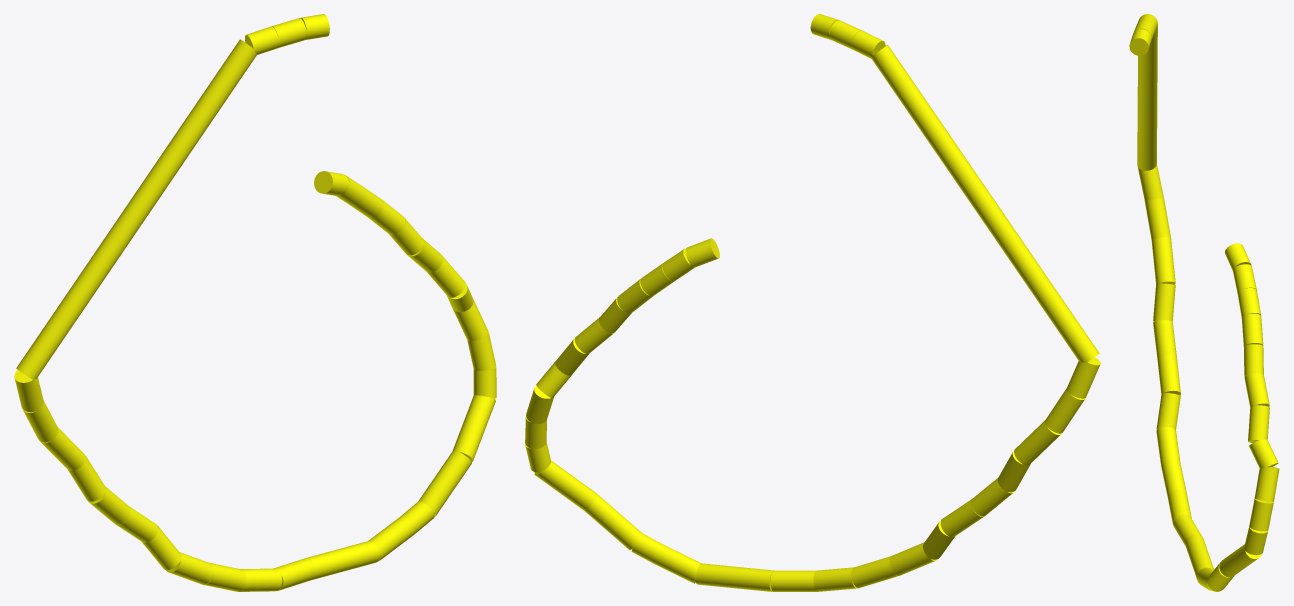
The picture shows the model from 3 angles, left to right: view 1: azimuth 30°, elevation 25°; view 2: azimuth 150°, elevation 25°; view 3: azimuth 270°, elevation 25°; orthographic projection. The views are drawn at different scales.
Parts seen in each view (by area): view 1: Cylinder(Clone) (×26); view 2: Cylinder(Clone) (×14); view 3: Cylinder(Clone) (×27).
Part boxes in pixels (x1=…): Cylinder(Clone) (×26): x1=14, y1=18, x2=496, y2=591; Cylinder(Clone) (×14): x1=534, y1=44, x2=1100, y2=591; Cylinder(Clone) (×27): x1=1129, y1=23, x2=1279, y2=591.
Bounding box in the file's own units: 0.2741 × 0.2875 × 0.0764.
